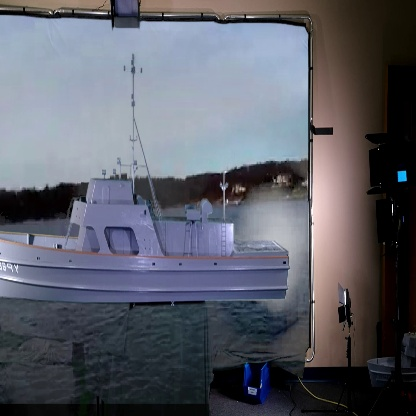YP689: (0, 47, 292, 302)
